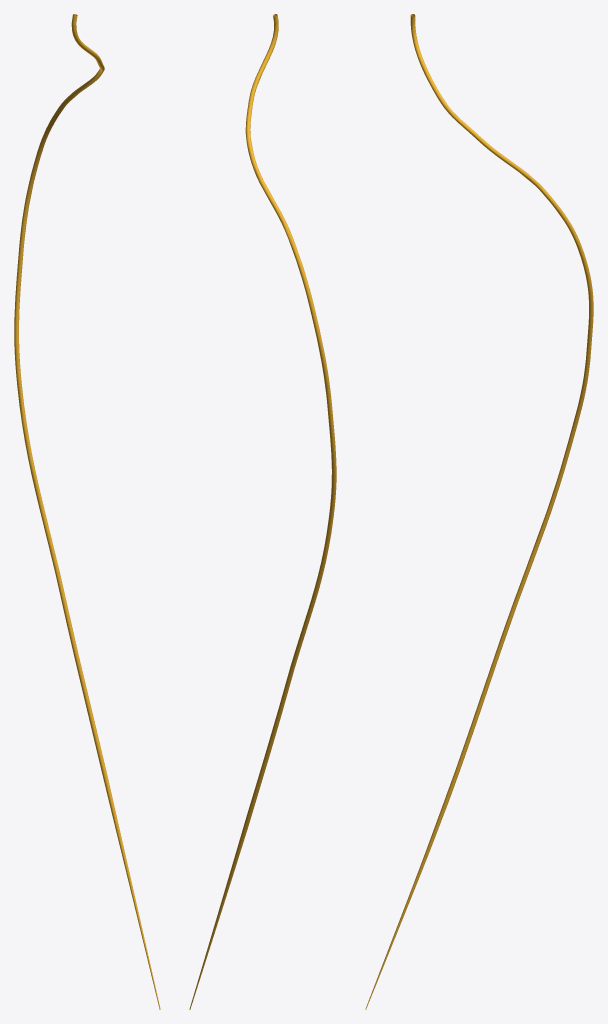
Rendered from nervoso-posterior-antebrachial-cutaneous-nerve-l.glb.
3 renders of one model, left to right at view 1: azimuth 30°, elevation 25°; view 2: azimuth 210°, elevation 25°; view 3: azimuth 270°, elevation 25°, orthographic. The views are drawn at different scales.
Visible parts, largest first — view 1: Posterior antebrachial cutaneous nerve.l; view 2: Posterior antebrachial cutaneous nerve.l; view 3: Posterior antebrachial cutaneous nerve.l.
Boxes of the visible parts, x1,y1,x2,y2 form: Posterior antebrachial cutaneous nerve.l: (14,14,160,1009); Posterior antebrachial cutaneous nerve.l: (189,14,336,1009); Posterior antebrachial cutaneous nerve.l: (365,14,593,1009).
Bounding box in the file's own units: 0.0159 × 0.2309 × 0.0494.
